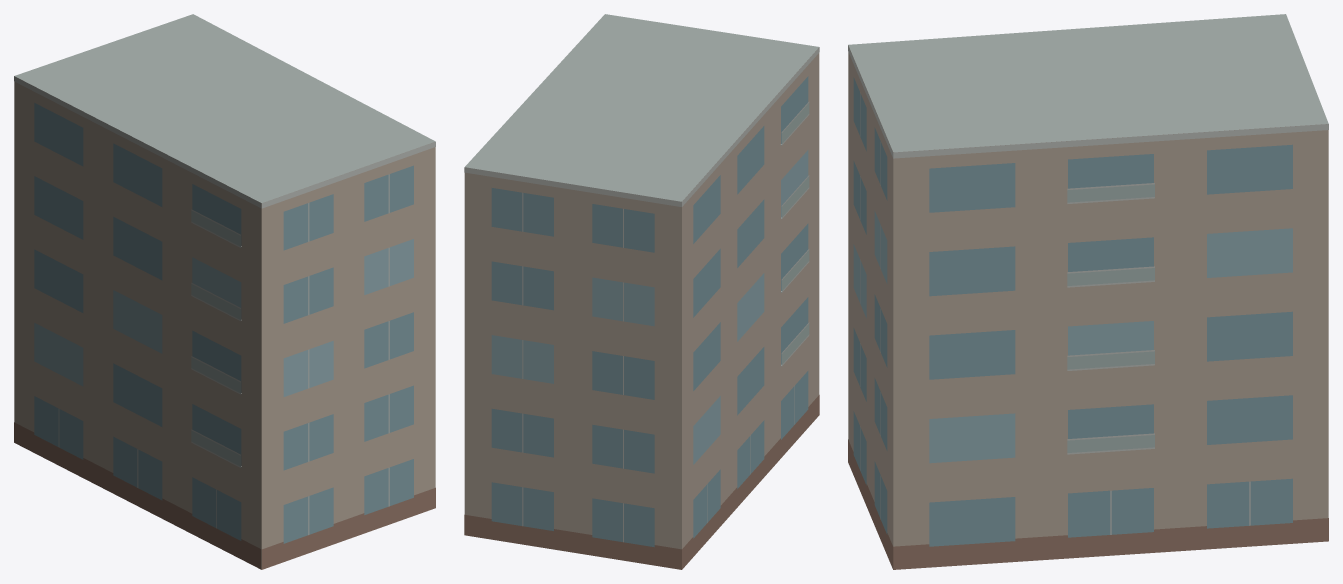
The model's file is survey-upis-32752581.glb.
3 views of the same model, side by side, from view 1: azimuth 30°, elevation 25°; view 2: azimuth 150°, elevation 25°; view 3: azimuth 270°, elevation 25° (orthographic). The views are drawn at different scales.
Visible parts, largest first — view 1: survey-upis-32752581.tmp; view 2: survey-upis-32752581.tmp; view 3: survey-upis-32752581.tmp.
Part boxes in pixels (<box>): survey-upis-32752581.tmp: <box>14,14,435,569</box>; survey-upis-32752581.tmp: <box>464,14,819,569</box>; survey-upis-32752581.tmp: <box>848,14,1328,569</box>.
Bounding box in the file's own units: 11.82 × 16.6 × 17.33.
